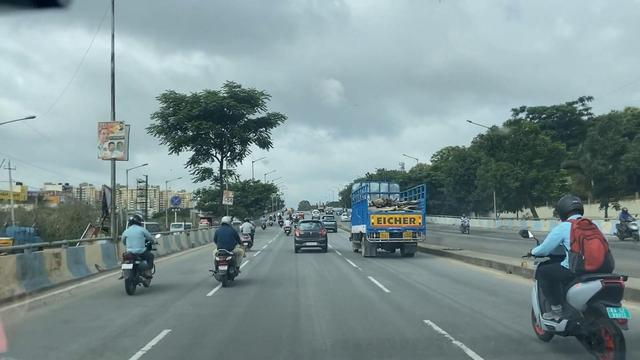HMV: (356, 179, 419, 254)
LMV: (122, 212, 152, 290), (213, 211, 237, 279), (290, 221, 330, 258)
